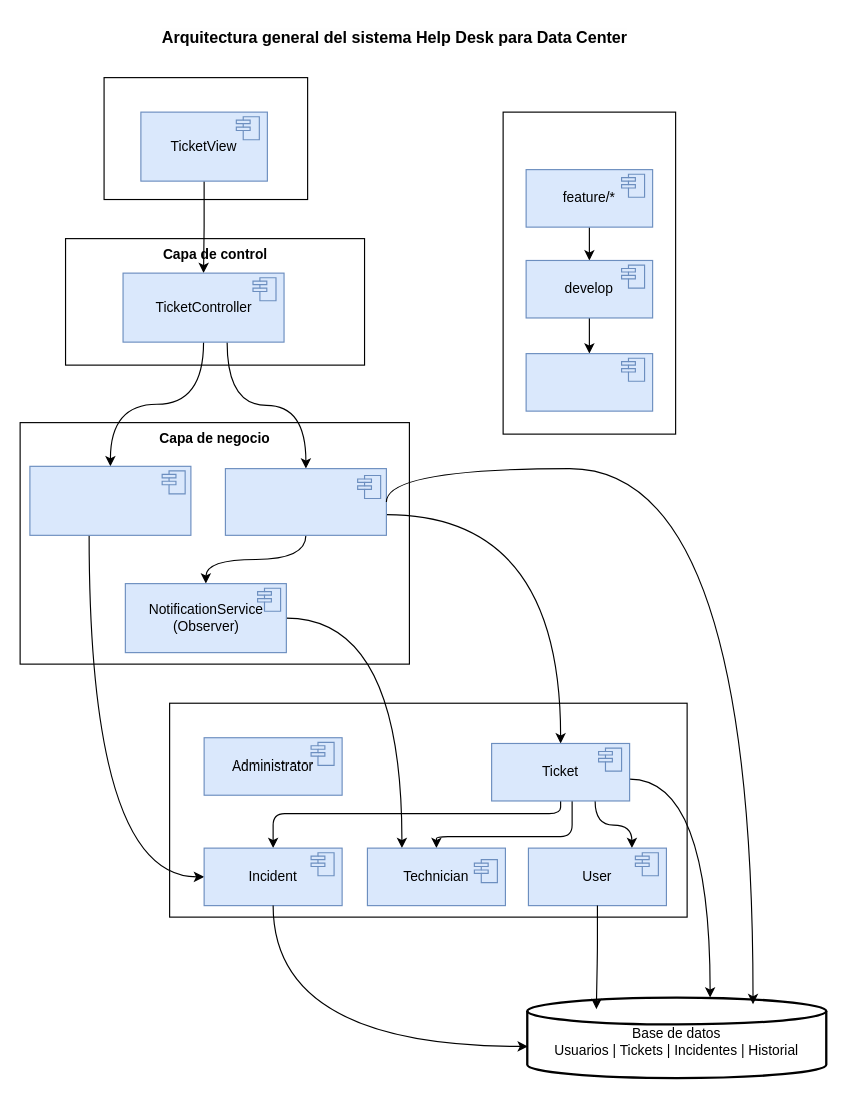
Some shapes in this 848 by 1098 pixel diagram are drawn without their labels. The box of each missing label's shape, as (x1, y1, x2, y2) in pixels:
Capa de dominio: (168, 702, 687, 917)
Capa de presentación: (103, 76, 308, 200)
Gestión de versiones Gitflow: (502, 111, 676, 434)
IncidentFactory (Factory Method): (29, 465, 191, 535)
master: (525, 352, 653, 411)
TicketManager (Singleton): (224, 467, 386, 535)
